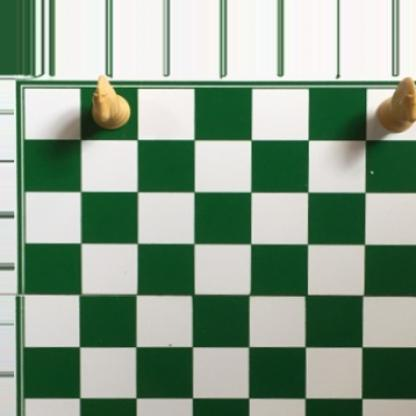white-knight: (374, 75, 416, 133), (91, 74, 131, 133)
